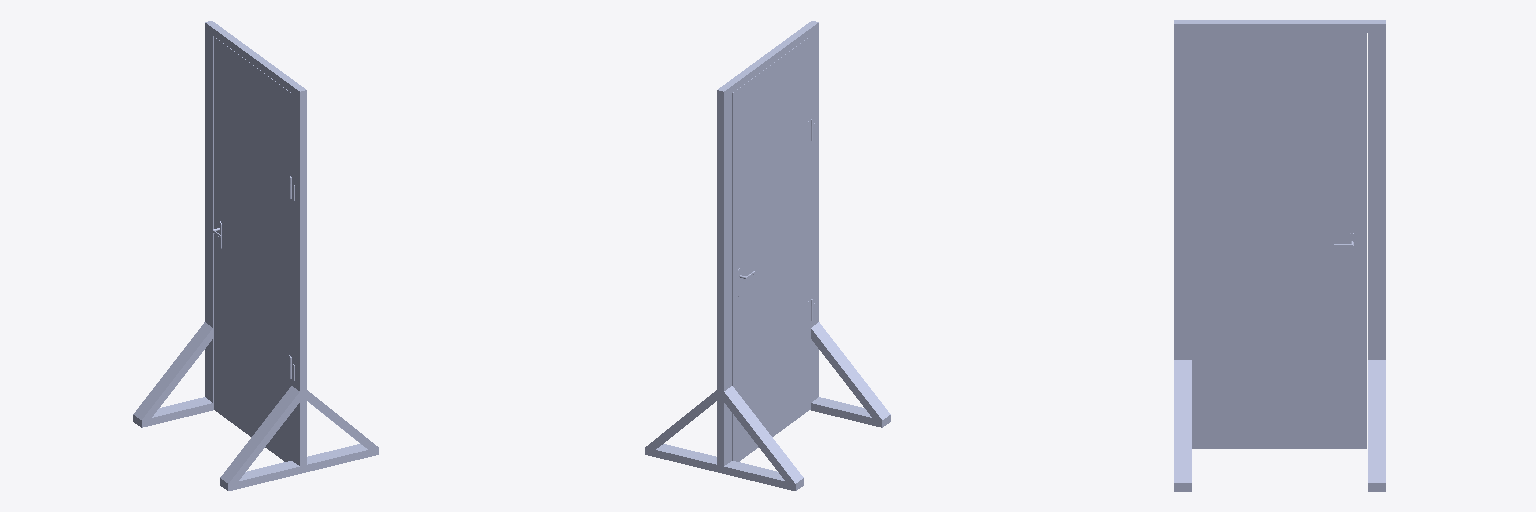
robot.urdf — door2:
<?xml version="1.0" encoding="utf-8"?>
<!-- This URDF was automatically created by SolidWorks to URDF Exporter! Originally created by [author] ([email redacted]) 
     Commit Version: 1.6.0-1-g15f4949  Build Version: 1.6.7594.29634
     For more information, please see http://wiki.ros.org/sw_urdf_exporter -->
<robot
  name="door2">
  <link
    name="door_frame">
    <inertial>
      <origin
        xyz="-3.1831E-05 0.57447 0.83303"
        rpy="0 0 0" />
      <mass
        value="51.073" />
      <inertia
        ixx="50.017"
        ixy="-0.00079296"
        ixz="0.00067786"
        iyy="38.461"
        iyz="0.01138"
        izz="15.722" />
    </inertial>
    <visual>
      <origin
        xyz="0 0 0"
        rpy="0 0 0" />
      <geometry>
        <mesh
          filename="package://door2/meshes/door_frame.STL" />
      </geometry>
      <material
        name="">
        <color
          rgba="0.79216 0.81961 0.93333 1" />
        <texture
          filename="package://door2/textures/door.jpg" />
      </material>
    </visual>
    <collision>
      <origin
        xyz="0 0 0"
        rpy="0 0 0" />
      <geometry>
        <mesh
          filename="package://door2/meshes/door_frame.STL" />
      </geometry>
    </collision>
  </link>
  <link
    name="door_plate">
    <inertial>
      <origin
        xyz="-0.68687 -0.47146 0.021993"
        rpy="0 0 0" />
      <mass
        value="7.0461" />
      <inertia
        ixx="0.52401"
        ixy="0.0023739"
        ixz="2.9981E-05"
        iyy="3.6487"
        iyz="0.00024247"
        izz="4.1716" />
    </inertial>
    <visual>
      <origin
        xyz="0 0 0"
        rpy="0 0 0" />
      <geometry>
        <mesh
          filename="package://door2/meshes/door_plate.STL" />
      </geometry>
      <material
        name="">
        <color
          rgba="0.79216 0.81961 0.93333 1" />
        <texture
          filename="package://door2/textures/door.jpg" />
      </material>
    </visual>
    <collision>
      <origin
        xyz="0 0 0"
        rpy="0 0 0" />
      <geometry>
        <mesh
          filename="package://door2/meshes/door_plate.STL" />
      </geometry>
    </collision>
  </link>
  <joint
    name="rot_plate"
    type="revolute">
    <origin
      xyz="-0.032 0.1 1.94"
      rpy="3.1415 -1.5708 0" />
    <parent
      link="door_frame" />
    <child
      link="door_plate" />
    <axis
      xyz="1 0 0" />
    <limit
      lower="-0.1"
      upper="1.57"
      effort="0"
      velocity="0" />
    <dynamics
      damping="0.1"
      friction="1" />
    <safety_controller
      soft_upper="1.57"
      soft_lower="-0.1"
      k_position="1"
      k_velocity="1" />
  </joint>
  <link
    name="door_locker">
    <inertial>
      <origin
        xyz="-0.02 -2.2204E-16 -0.043212"
        rpy="0 0 0" />
      <mass
        value="0.22261" />
      <inertia
        ixx="0.00060353"
        ixy="-1.3082E-19"
        ixz="-8.4258E-19"
        iyy="0.0006163"
        iyz="-1.6394E-18"
        izz="5.3768E-05" />
    </inertial>
    <visual>
      <origin
        xyz="0 0 0"
        rpy="0 0 0" />
      <geometry>
        <mesh
          filename="package://door2/meshes/door_locker.STL" />
      </geometry>
      <material
        name="">
        <color
          rgba="0.79216 0.81961 0.93333 1" />
        <texture
          filename="package://door2/textures/handle.jpg" />
      </material>
    </visual>
    <collision>
      <origin
        xyz="0 0 0"
        rpy="0 0 0" />
      <geometry>
        <mesh
          filename="package://door2/meshes/door_locker.STL" />
      </geometry>
    </collision>
  </link>
  <joint
    name="fix_locker"
    type="fixed">
    <origin
      xyz="-0.69495 -0.865 0.042"
      rpy="3.1415 -1.5708 0" />
    <parent
      link="door_plate" />
    <child
      link="door_locker" />
    <axis
      xyz="0 0 0" />
  </joint>
  <link
    name="door_handle">
    <inertial>
      <origin
        xyz="-0.02 0.023356 -5.5511E-17"
        rpy="0 0 0" />
      <mass
        value="0.046826" />
      <inertia
        ixx="4.8725E-05"
        ixy="3.3286E-19"
        ixz="4.449E-19"
        iyy="0.0001374"
        iyz="1.7087E-19"
        izz="0.00018447" />
    </inertial>
    <visual>
      <origin
        xyz="0 0 0"
        rpy="0 0 0" />
      <geometry>
        <mesh
          filename="package://door2/meshes/door_handle.STL" />
      </geometry>
      <material
        name="">
        <color
          rgba="0.79216 0.81961 0.93333 1" />
        <texture
          filename="package://door2/textures/handle.jpg" />
      </material>
    </visual>
    <collision>
      <origin
        xyz="0 0 0"
        rpy="0 0 0" />
      <geometry>
        <mesh
          filename="package://door2/meshes/door_handle.STL" />
      </geometry>
    </collision>
  </link>
  <joint
    name="rot_handle"
    type="revolute">
    <origin
      xyz="0 0 0"
      rpy="3.1415 0 0" />
    <parent
      link="door_locker" />
    <child
      link="door_handle" />
    <axis
      xyz="1 0 0" />
    <limit
      lower="-0.1"
      upper="1.57"
      effort="0"
      velocity="0" />
    <dynamics
      damping="0.1"
      friction="1" />
    <safety_controller
      soft_upper="1.57"
      soft_lower="-0.1"
      k_position="1"
      k_velocity="1" />
  </joint>
</robot>

--- Render facts (derived) ---
3 views of the same robot in one strip: view 1: azimuth 30°, elevation 25°; view 2: azimuth 150°, elevation 25°; view 3: azimuth 270°, elevation 25° (orthographic).
Model door2 with 4 links and 3 joints (2 revolute, 1 fixed), rooted at door_frame, posed every joint at zero.
Links seen in each view (by area): view 1: door_plate, door_frame; view 2: door_plate, door_frame; view 3: door_plate, door_frame.
Boxes of the visible links, <box> form: door_plate: <box>214,37,291,461</box>; door_frame: <box>133,21,378,490</box>; door_plate: <box>732,36,812,461</box>; door_frame: <box>645,21,890,490</box>; door_plate: <box>1192,33,1366,448</box>; door_frame: <box>1174,20,1385,491</box>.
Bounding box of the posed robot: 1.05 × 1.15 × 2.55 m (x, y, z).
Meshes: 4 distinct files referenced, 4 mesh visuals loaded (4 binary STL).